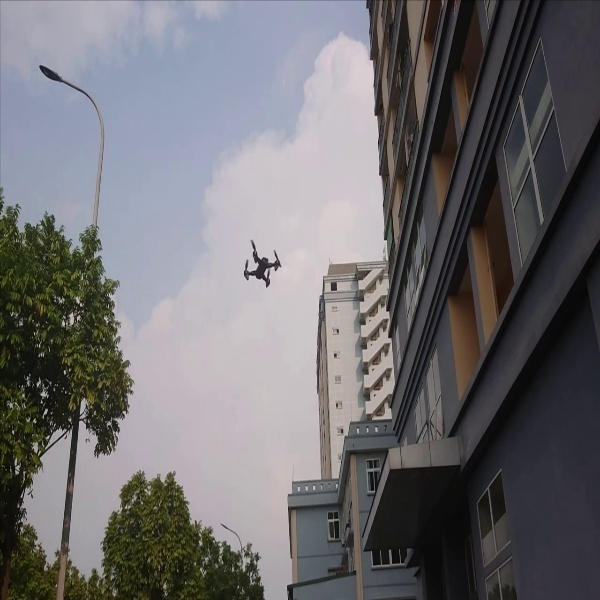drone: (239, 235, 286, 298)
